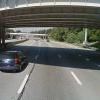Car: (3, 43, 29, 73)
